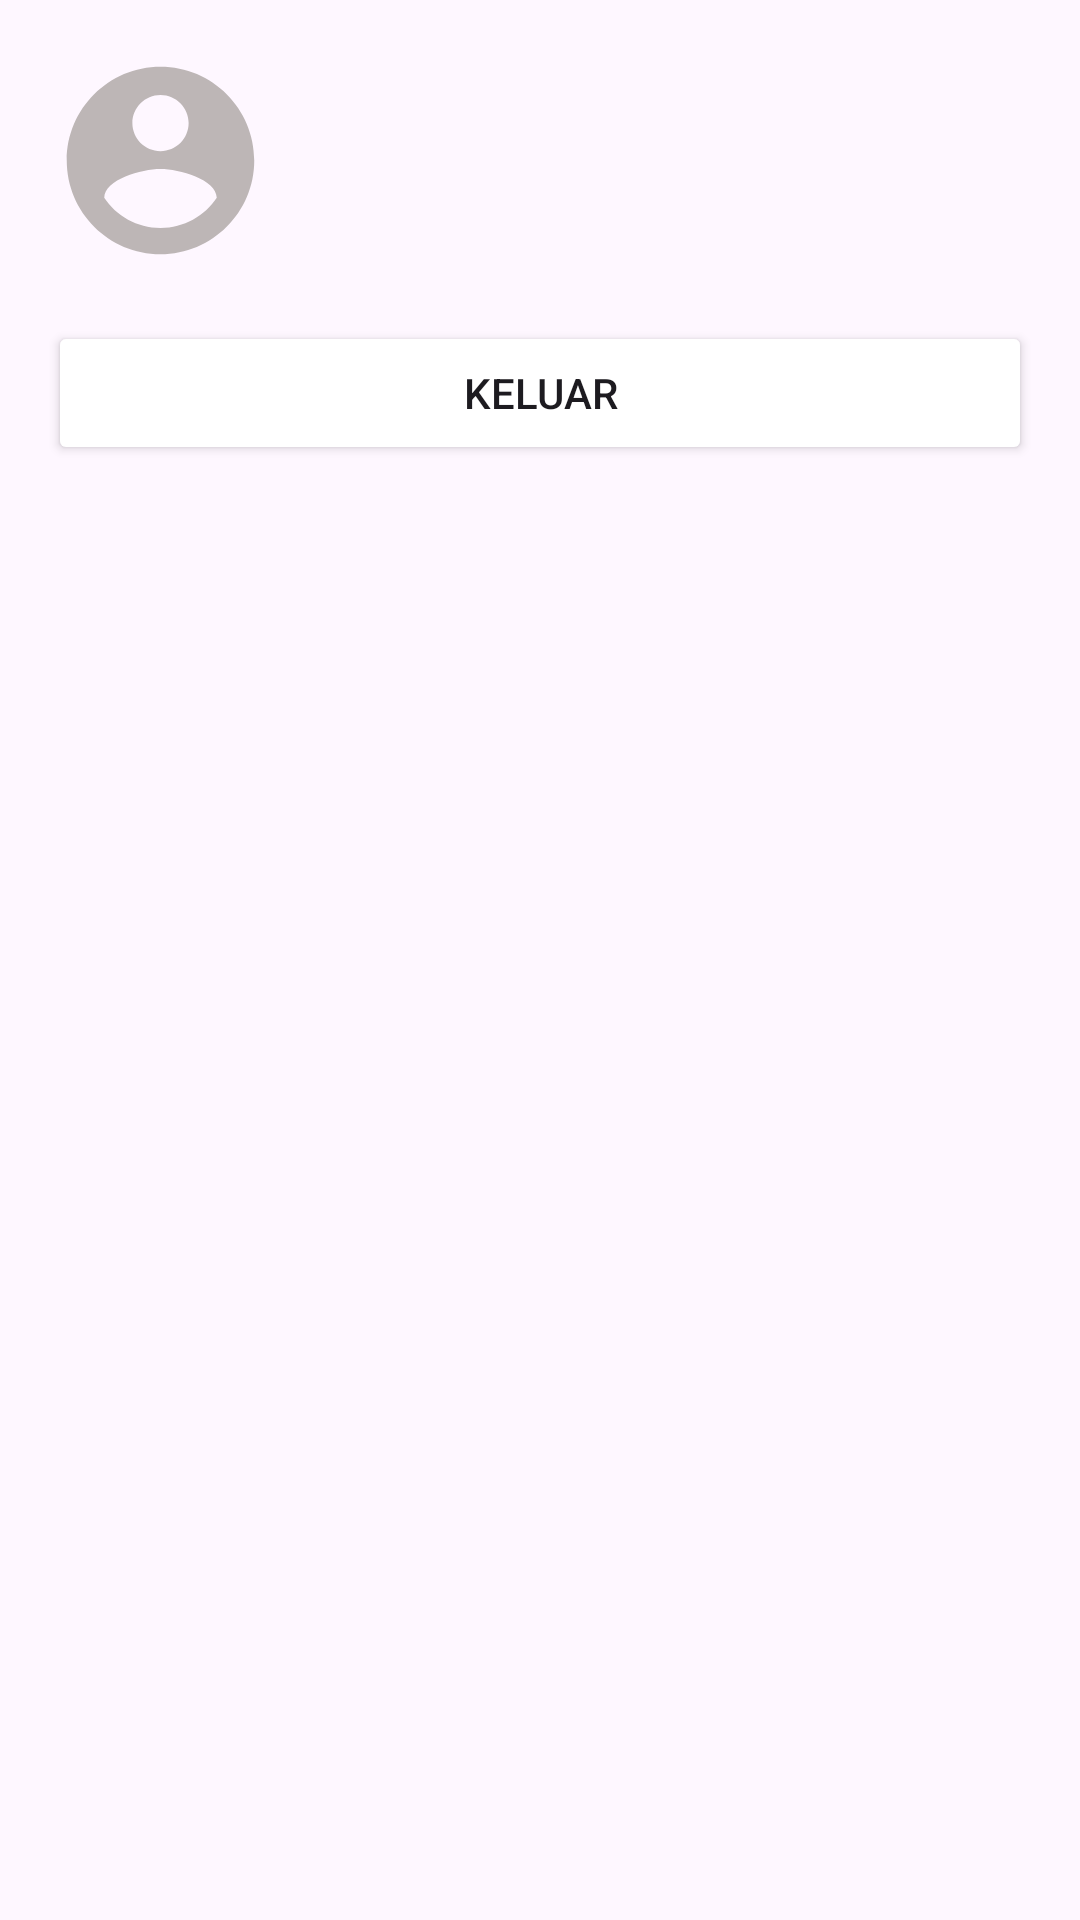

Where icons sit on this 1080w x 1920h app screen, as (x1, y1, x2, y2):
profile: (66, 67, 254, 254)
